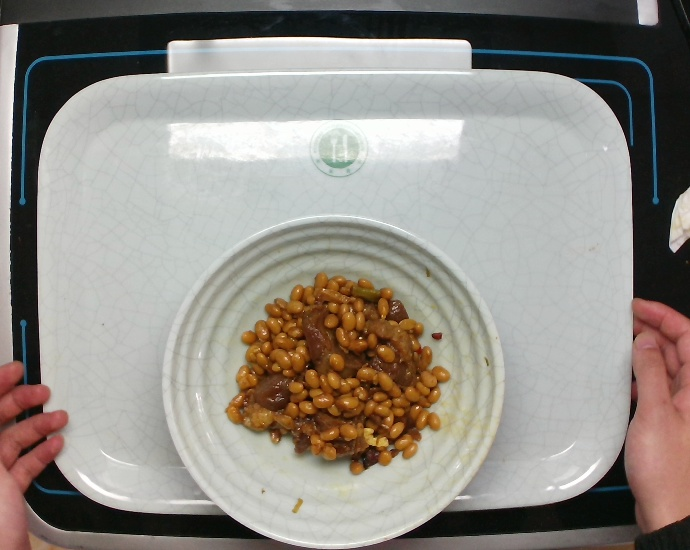JYsf-Da_Tang_Wan: (153, 207, 512, 550)
